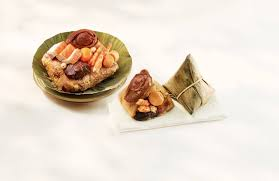zongzi: (42, 30, 119, 92), (164, 54, 213, 113), (120, 70, 172, 118)
